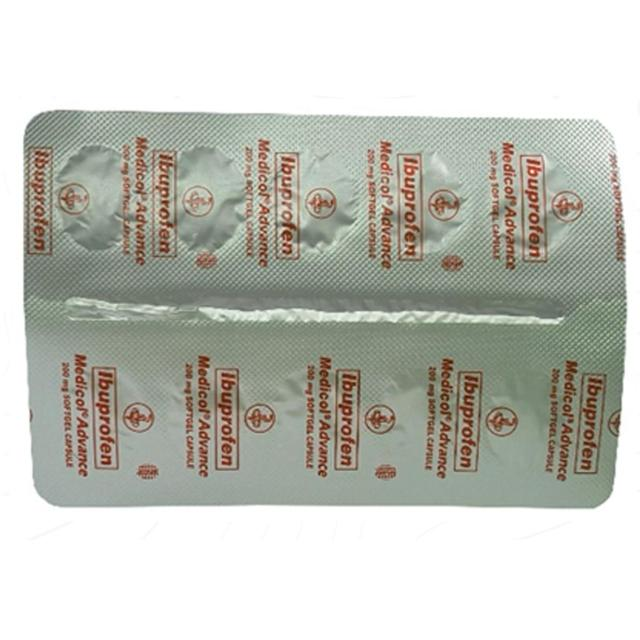blister: (15, 106, 632, 517)
